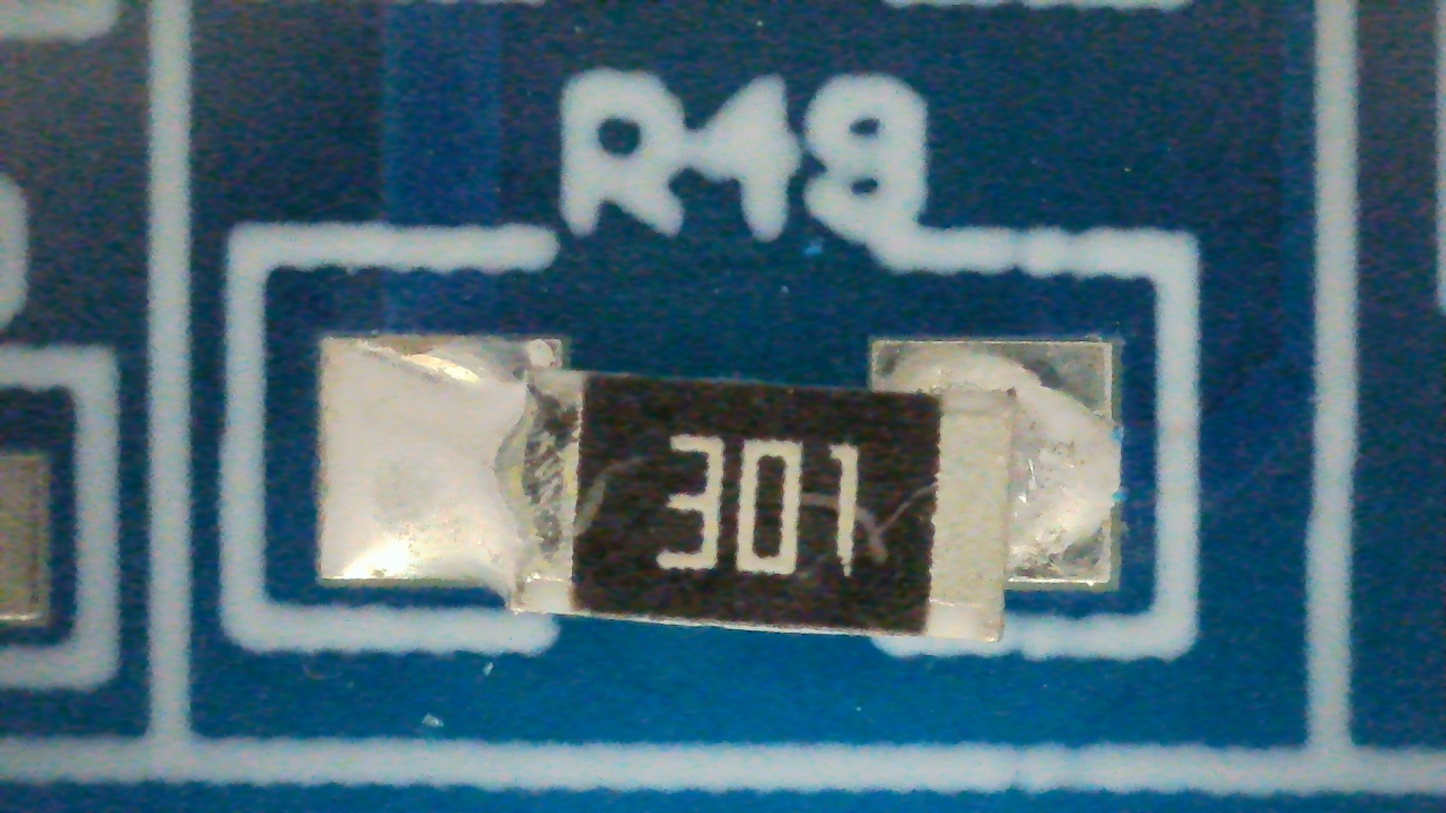NG: (318, 339, 1125, 645)
